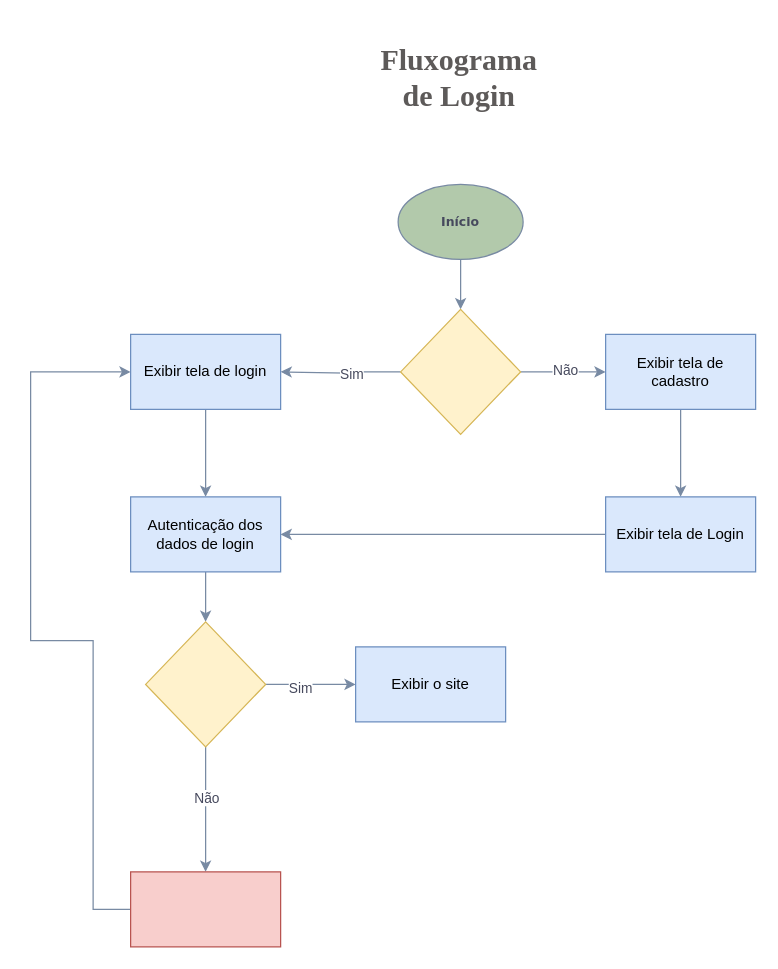
This 778x969 diagram has some shape labels left out. Each missing label, with the centre of its shape:
Login correto?: point (205, 684)
Mensagem de Erro: point (205, 909)
Tem cadastro?: point (460, 371)
